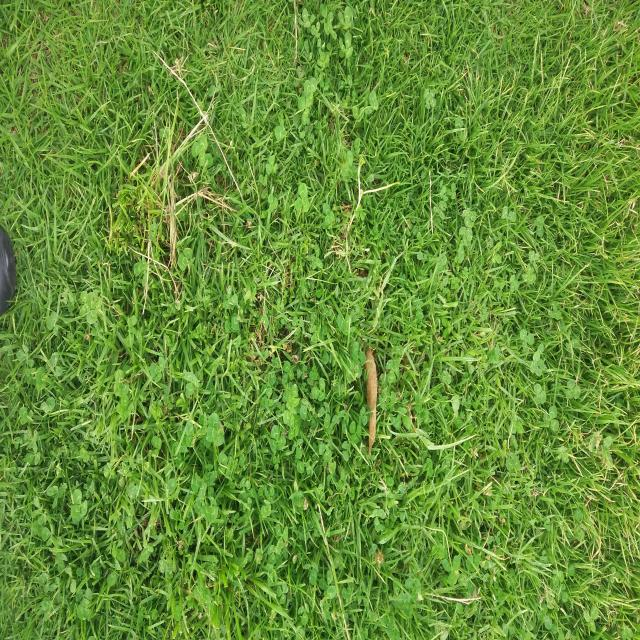Four Leaf Clover: (207, 413, 224, 446), (337, 314, 356, 337), (218, 452, 234, 478), (283, 402, 297, 425), (424, 88, 436, 110)
